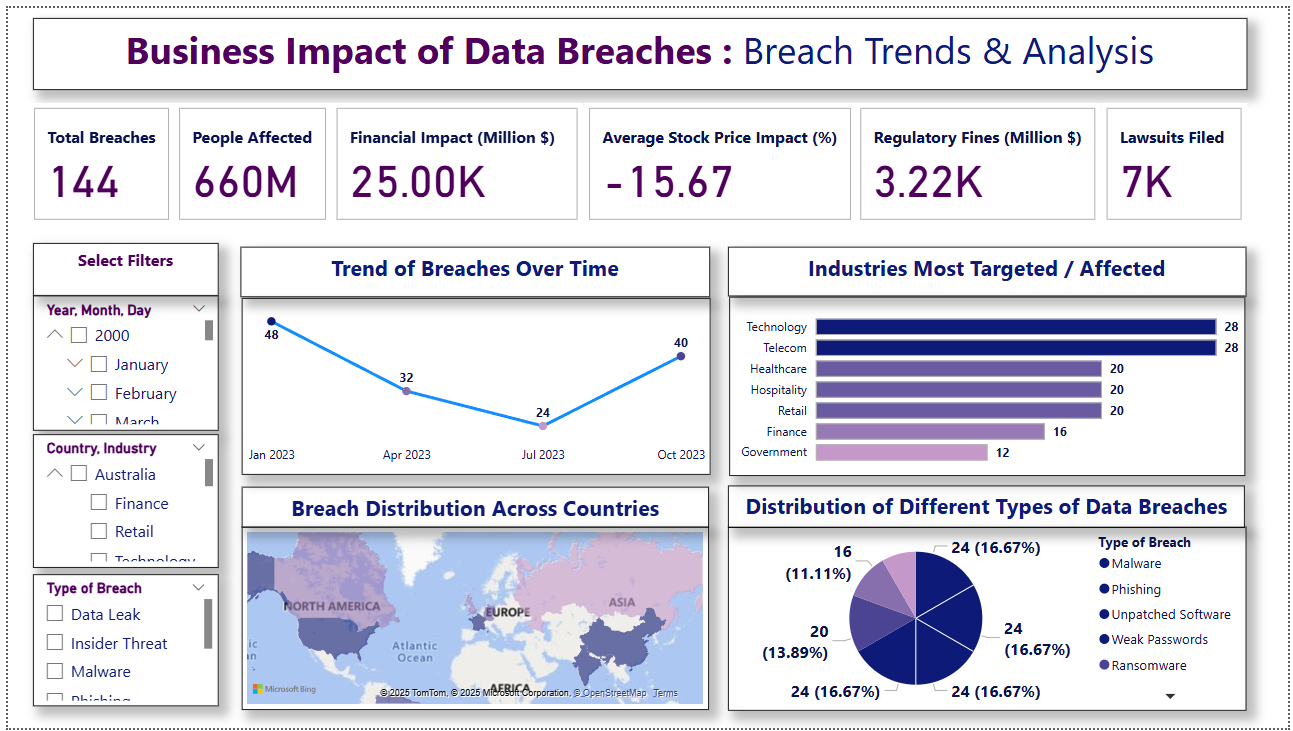

Layout of this report page (visuals, bound fields, positions):
{"tool":"powerbi","page":{"name":"Breach Trend and Analysis","canvas":[1280,720],"ordinal":0},"visuals":[{"type":"textbox","box":[24.5,9.8,1214.3,72.1],"z":0},{"type":"group","id":"g1","title":"Group 8","box":[24.5,287.4,185.9,410.9],"z":0,"group":"g6"},{"type":"lineChart","fields":{"Category":["Sheet1.Date of Breach.Variation.Date Hierarchy.Year","Sheet1.Date of Breach.Variation.Date Hierarchy.Quarter","Sheet1.Date of Breach.Variation.Date Hierarchy.Month","Sheet1.Date of Breach.Variation.Date Hierarchy.Day"],"Y":["Sheet1.Total Breaches"]},"box":[233.6,290.1,469.1,176.9],"z":0,"group":"g4"},{"type":"textbox","box":[24.5,234.8,185.4,52.6],"z":1000,"group":"g6"},{"type":"textbox","box":[232.8,238.6,469.3,50.6],"z":1000,"group":"g4"},{"type":"group","id":"g2","title":"Group 1","box":[720.5,238.6,518.1,228.9],"z":1000},{"type":"filledMap","fields":{"Category":["Sheet1.Country"]},"box":[234.2,518.8,467.4,183.3],"z":1000,"group":"g5"},{"type":"group","id":"g3","title":"Group 2","box":[720.2,476.9,518.5,225],"z":2000},{"type":"textbox","box":[233.9,478.4,467.3,41.1],"z":2000,"group":"g5"},{"type":"group","id":"g4","title":"Group 3","box":[232.8,238.6,469.9,228.4],"z":3000},{"type":"slicer","fields":{"Values":["Sheet1.Date of Breach.Variation.Date Hierarchy.Year","Sheet1.Date of Breach.Variation.Date Hierarchy.Month","Sheet1.Date of Breach.Variation.Date Hierarchy.Day"]},"box":[24.5,287.4,185.9,134.9],"z":3000,"group":"g1"},{"type":"clusteredBarChart","fields":{"Category":["Sheet1.Industry"],"Y":["Sheet1.Total Breaches"]},"box":[721.4,288.5,515.7,179],"z":3000,"group":"g8"},{"type":"textbox","box":[720.5,238.6,518.1,49.9],"z":4000,"group":"g8"},{"type":"slicer","fields":{"Values":["Sheet1.Country","Sheet1.Industry"]},"box":[24.5,426.6,185.5,133.4],"z":4000,"group":"g1"},{"type":"group","id":"g5","title":"Group 6","box":[233.9,478.4,467.7,223.7],"z":4000},{"type":"group","id":"g6","title":"Group 9","box":[24.5,234.8,185.9,463.5],"z":5000},{"type":"slicer","fields":{"Values":["Sheet1.Type of Breach"]},"box":[24.7,566,185.4,132.3],"z":5000,"group":"g1"},{"type":"cardVisual","fields":{"Data":["Avg(Sheet1.Stock Price Impact (%))"]},"box":[575.3,95.4,272.1,122.3],"z":6000,"group":"g9"},{"type":"cardVisual","fields":{"Data":["Sheet1.Total Breaches"]},"box":[20.8,95.4,145.6,122.3],"z":7000,"group":"g9"},{"type":"pieChart","fields":{"Category":["Sheet1.Type of Breach"],"Y":["Sheet1.Total Breaches"]},"box":[720.2,518.2,518.5,183.7],"z":7000,"group":"g7"},{"type":"cardVisual","fields":{"Data":["Sum(Sheet1.Regulatory Fines (Million $))"]},"box":[847.5,95.4,245.6,122.3],"z":8000,"group":"g9"},{"type":"textbox","box":[720.3,476.9,517.1,42.6],"z":8000,"group":"g7"},{"type":"group","id":"g7","title":"Group 5","box":[720.2,476.9,518.5,225],"z":8001,"group":"g3"},{"type":"cardVisual","fields":{"Data":["Sum(Sheet1.Lawsuits Filed)"]},"box":[1093.1,95.4,145.6,122.3],"z":9000,"group":"g9"},{"type":"group","id":"g8","title":"Group 4","box":[720.5,238.6,518.1,228.9],"z":9002,"group":"g2"},{"type":"cardVisual","fields":{"Data":["Sum(Sheet1.People Affected)"]},"box":[166.4,95.4,157.4,122.3],"z":10000,"group":"g9"},{"type":"cardVisual","fields":{"Data":["Sum(Sheet1.Financial Impact (Million $))"]},"box":[323.8,95.4,251.5,122.3],"z":11000,"group":"g9"},{"type":"group","id":"g9","title":"Group 7","box":[20.8,95.4,1217.9,122.3],"z":11001}]}

Visuals, with their boxes in screenshot pixels (x1, y1, x2, y2), scaled from the page's 1280x720 canvas onto the 1293x731 screenshot:
textbox: (left=25, top=10, right=1251, bottom=83)
"Group 8" group: (left=25, top=292, right=213, bottom=709)
lineChart - Sheet1.Date of Breach.Variation.Date Hierarchy.Year x Sheet1.Date of Breach.Variation.Date Hierarchy.Quarter: (left=236, top=295, right=710, bottom=474)
textbox: (left=25, top=238, right=212, bottom=292)
textbox: (left=235, top=242, right=709, bottom=294)
"Group 1" group: (left=728, top=242, right=1251, bottom=475)
filledMap - Sheet1.Country: (left=237, top=527, right=709, bottom=713)
"Group 2" group: (left=728, top=484, right=1251, bottom=713)
textbox: (left=236, top=486, right=708, bottom=527)
"Group 3" group: (left=235, top=242, right=710, bottom=474)
slicer - Sheet1.Date of Breach.Variation.Date Hierarchy.Year x Sheet1.Date of Breach.Variation.Date Hierarchy.Month: (left=25, top=292, right=213, bottom=429)
clusteredBarChart - Sheet1.Industry x Sheet1.Total Breaches: (left=729, top=293, right=1250, bottom=475)
textbox: (left=728, top=242, right=1251, bottom=293)
slicer - Sheet1.Country x Sheet1.Industry: (left=25, top=433, right=212, bottom=569)
"Group 6" group: (left=236, top=486, right=709, bottom=713)
"Group 9" group: (left=25, top=238, right=213, bottom=709)
slicer - Sheet1.Type of Breach: (left=25, top=575, right=212, bottom=709)
cardVisual - Avg(Sheet1.Stock Price Impact (%)): (left=581, top=97, right=856, bottom=221)
cardVisual - Sheet1.Total Breaches: (left=21, top=97, right=168, bottom=221)
pieChart - Sheet1.Type of Breach x Sheet1.Total Breaches: (left=728, top=526, right=1251, bottom=713)
cardVisual - Sum(Sheet1.Regulatory Fines (Million $)): (left=856, top=97, right=1104, bottom=221)
textbox: (left=728, top=484, right=1250, bottom=527)
"Group 5" group: (left=728, top=484, right=1251, bottom=713)
cardVisual - Sum(Sheet1.Lawsuits Filed): (left=1104, top=97, right=1251, bottom=221)
"Group 4" group: (left=728, top=242, right=1251, bottom=475)
cardVisual - Sum(Sheet1.People Affected): (left=168, top=97, right=327, bottom=221)
cardVisual - Sum(Sheet1.Financial Impact (Million $)): (left=327, top=97, right=581, bottom=221)
"Group 7" group: (left=21, top=97, right=1251, bottom=221)
